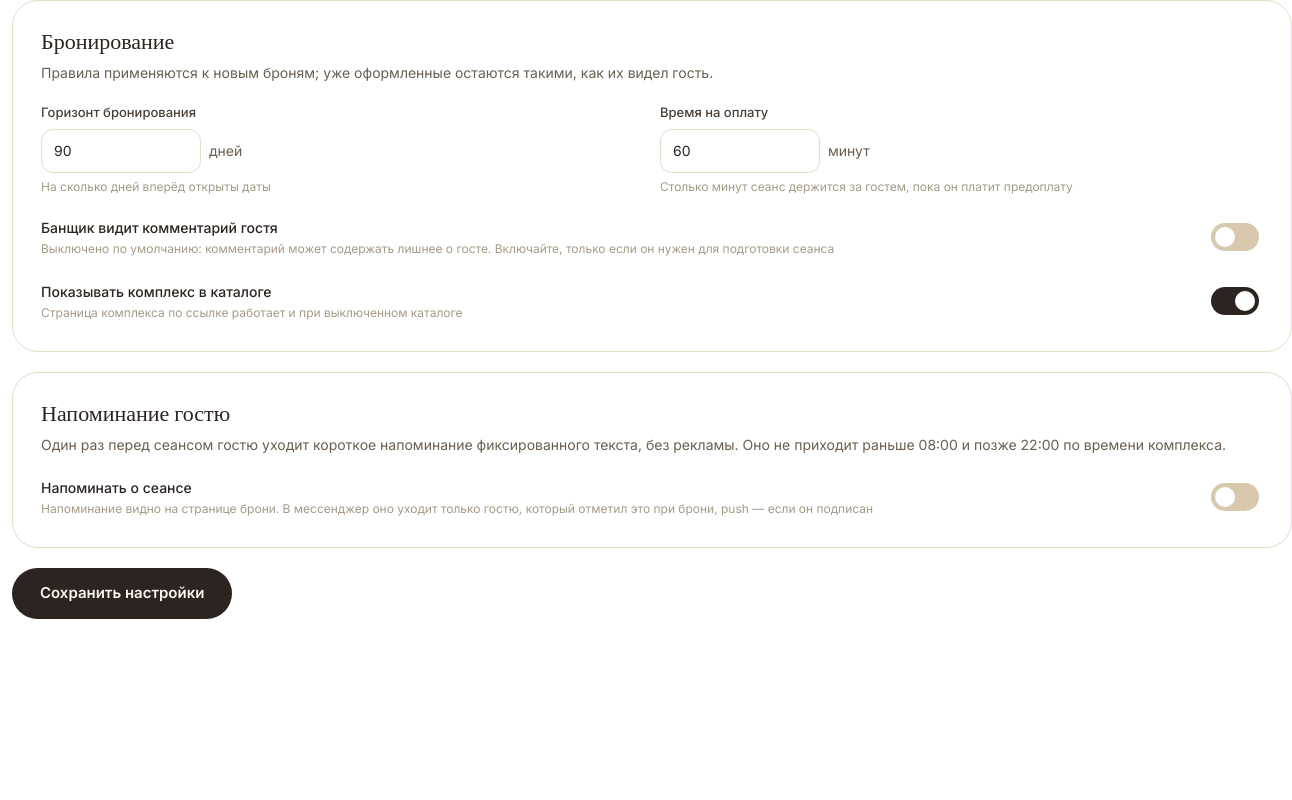
Test case: BookingRulesCard reminder › puts a server 400 under its field
Click the button "Сохранить настройки": (122, 593) [12,568,232,618]
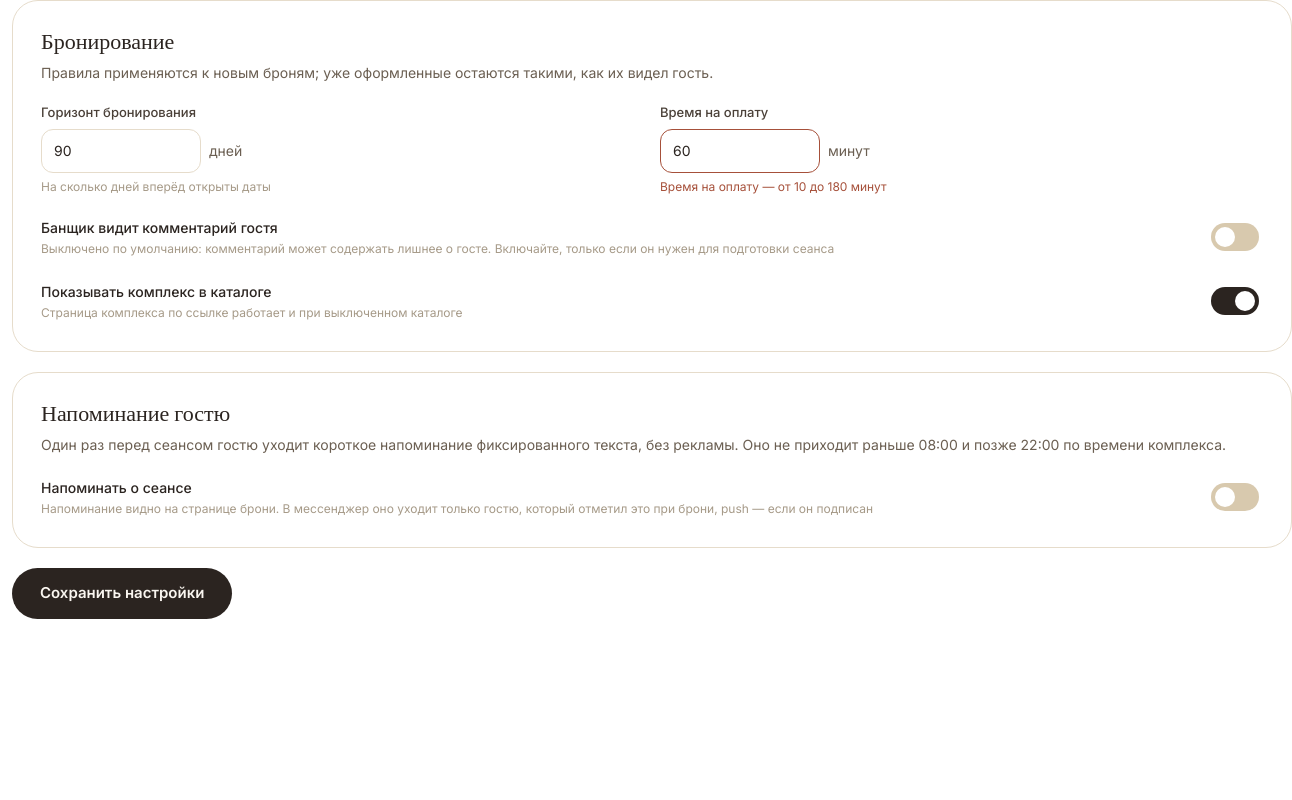
Check: the text "Время на оплату — от 10 до 180 минут" is shown, box [660,179,886,194]
